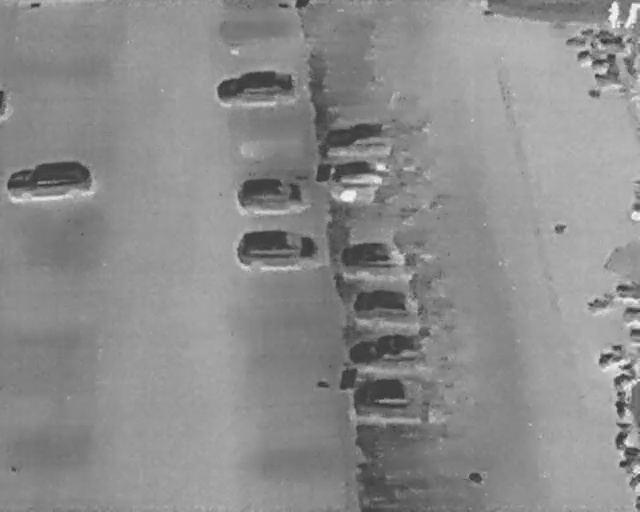Bicycle: (594, 339, 629, 371), (593, 63, 626, 90), (610, 417, 635, 452), (583, 290, 616, 315), (613, 362, 639, 389), (589, 50, 617, 70), (617, 445, 639, 469), (613, 388, 630, 418), (615, 281, 639, 301), (598, 34, 625, 49), (576, 48, 599, 64), (623, 305, 639, 323), (625, 472, 639, 491), (563, 36, 587, 47), (629, 325, 639, 341), (580, 26, 594, 36), (633, 493, 639, 510)
Car: (4, 154, 97, 206), (349, 375, 447, 422), (214, 65, 302, 109), (232, 172, 314, 218), (345, 327, 429, 371), (234, 228, 319, 271), (323, 119, 401, 159), (352, 287, 428, 322), (340, 239, 422, 270), (328, 162, 403, 189)
Person: (607, 1, 623, 31), (623, 0, 639, 30)
